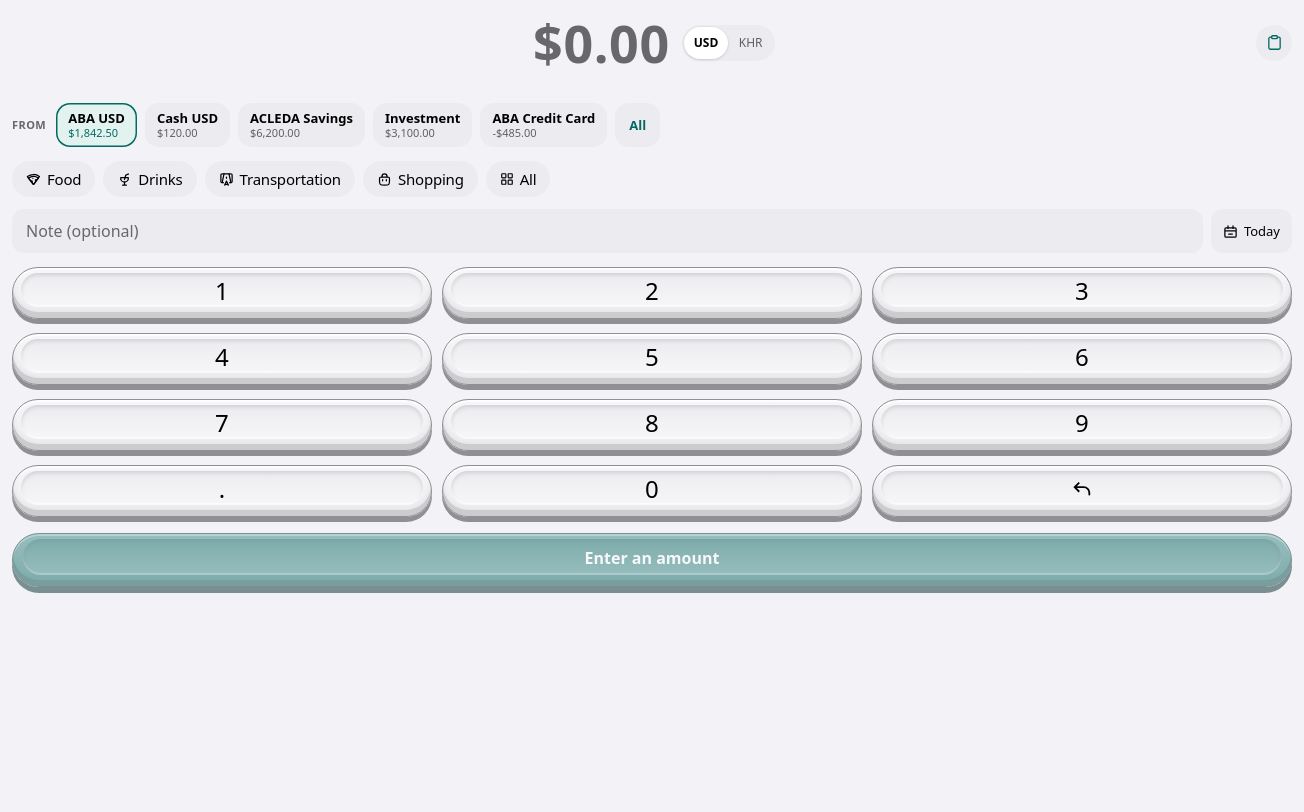
transaction save feedback › confirms the saved amount after clearing the keypad
The image size is (1304, 812).
Step 1. Click the button "5" → click(652, 359), box [442,333,862,385]
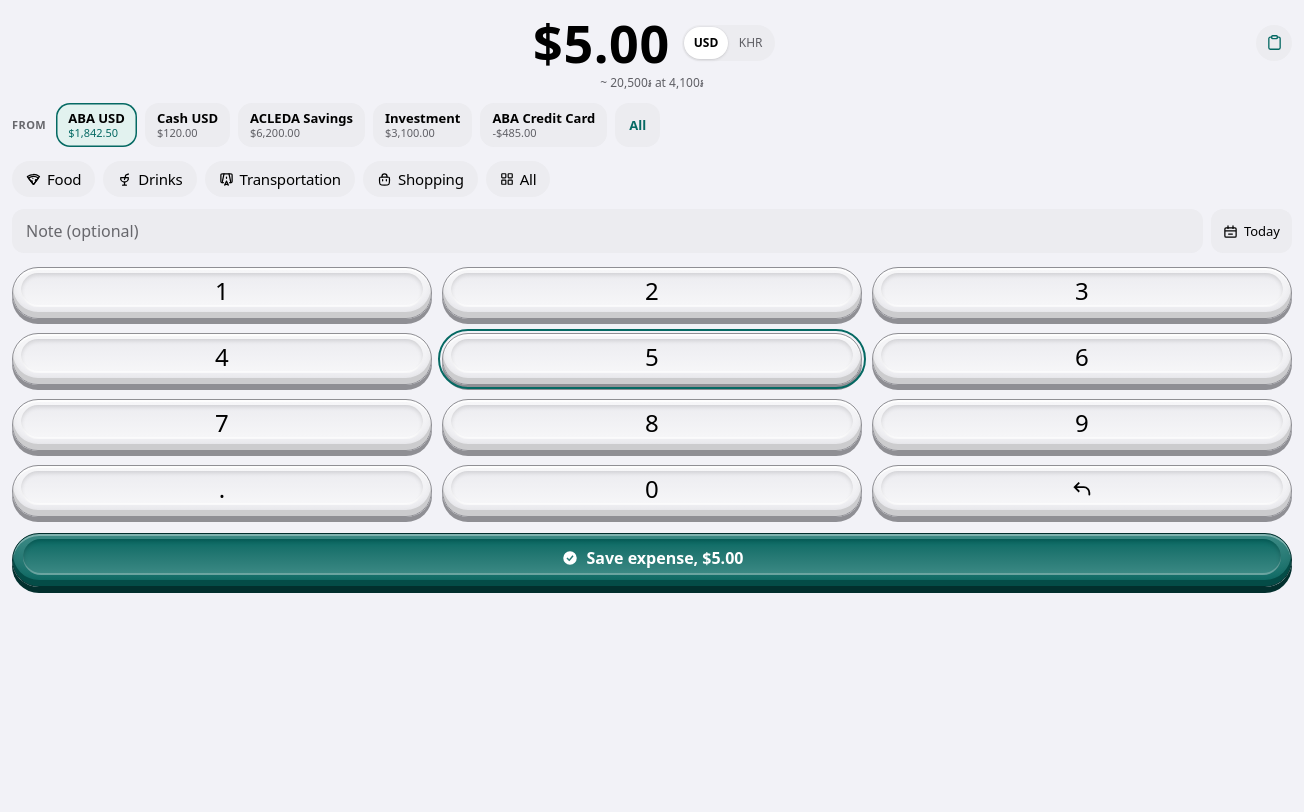
Step 2. Click the button "Save expense, $5.00" → click(652, 560), box [12,533,1292,587]
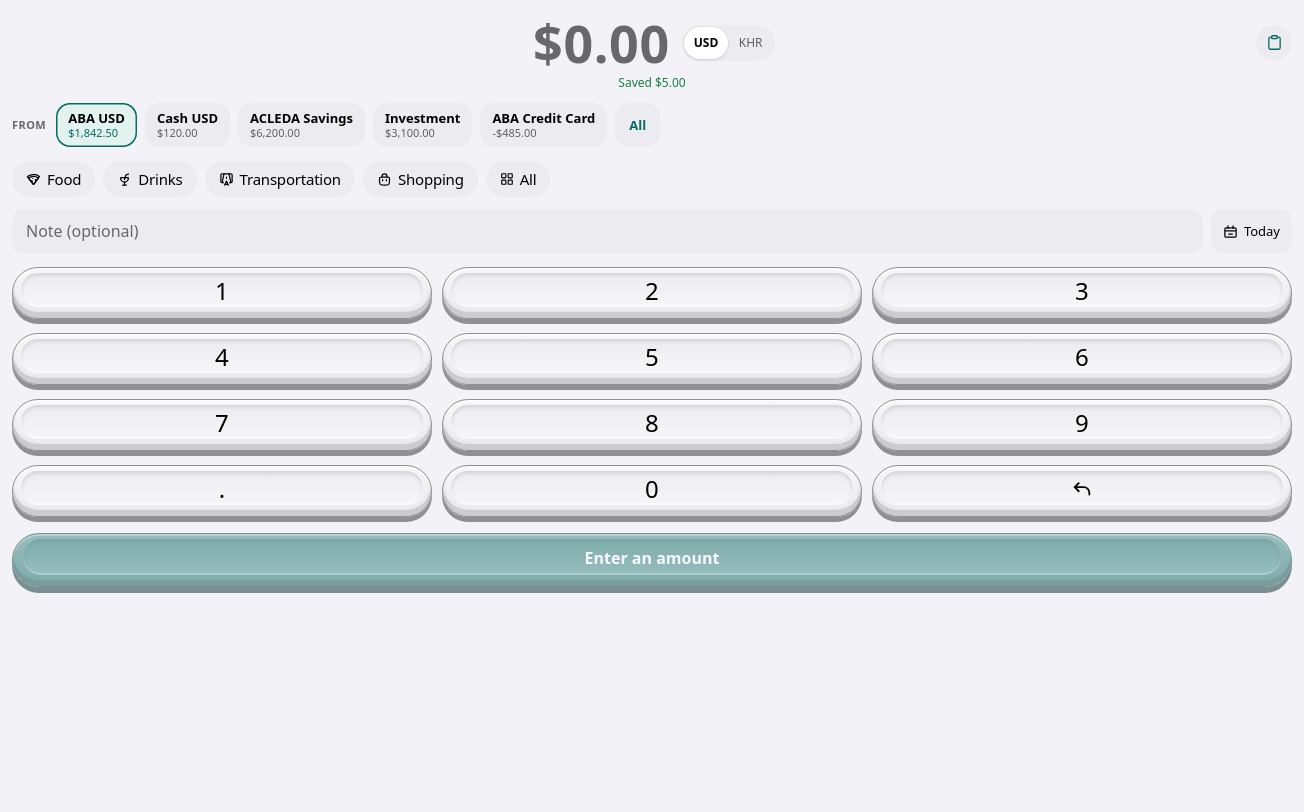
Now the message named "Save confirmation" reads "Saved $5.00", box [618,74,686,91]
